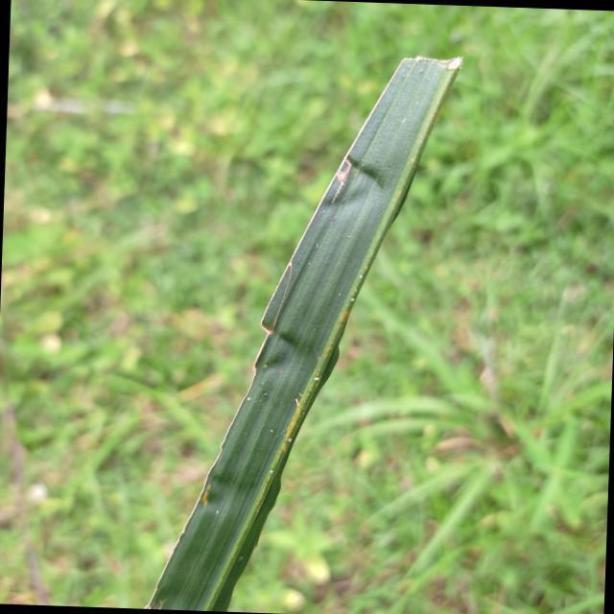Boron: (148, 54, 480, 614)
